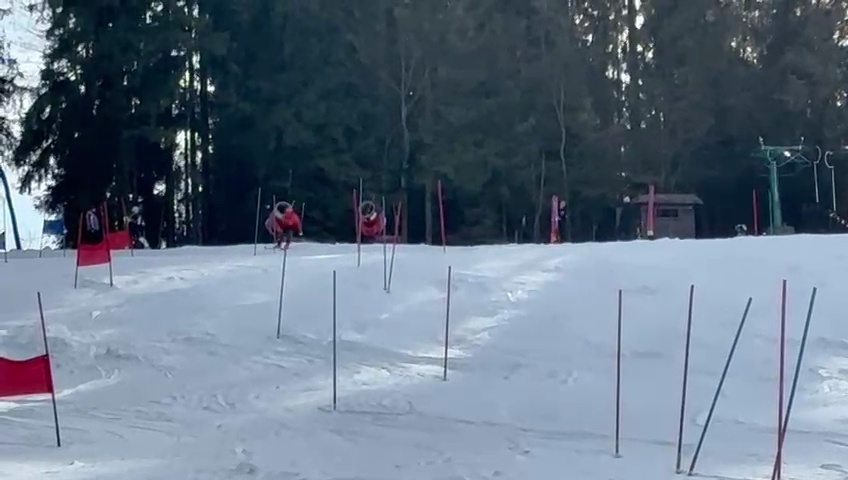gate: (685, 288, 758, 478), (771, 275, 817, 480), (31, 286, 68, 453), (772, 273, 795, 480), (674, 278, 694, 471), (609, 284, 628, 458), (325, 266, 347, 413), (274, 205, 295, 344), (438, 261, 458, 382), (383, 195, 402, 297), (97, 197, 116, 290), (71, 203, 90, 290), (379, 198, 395, 295), (351, 175, 366, 270), (433, 176, 451, 250), (247, 184, 263, 258), (379, 231, 390, 294), (377, 239, 387, 293)
